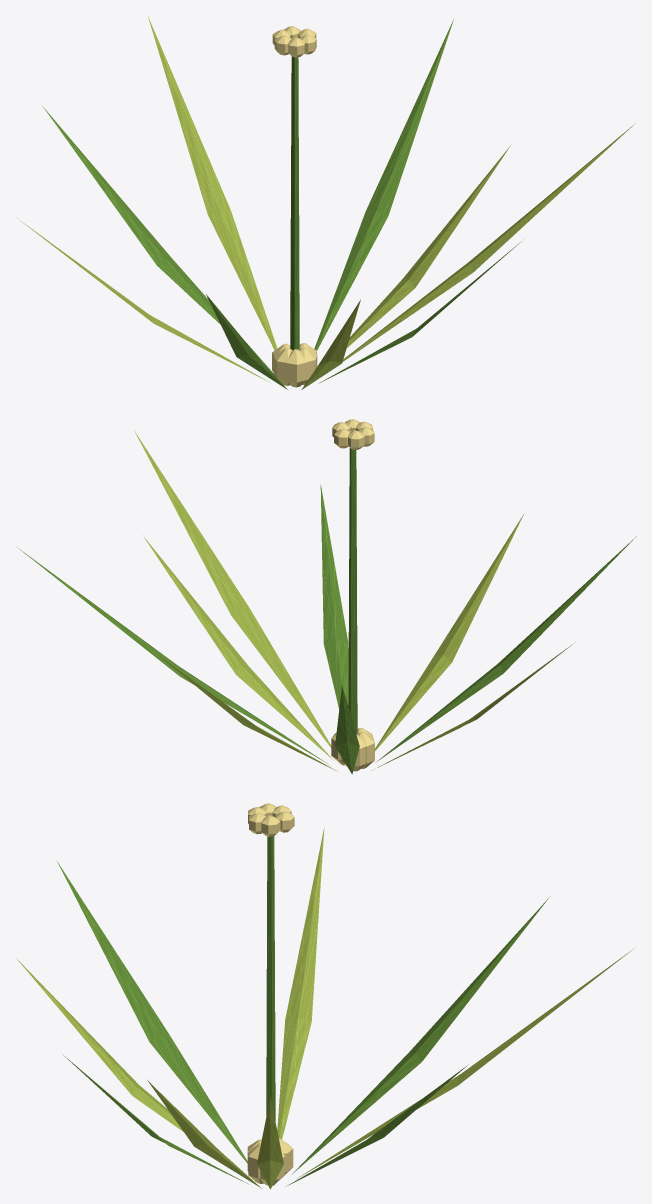
Rendered from crop-garlic-ready.glb.
3 views of the same model, one above another, from view 1: azimuth 30°, elevation 25°; view 2: azimuth 150°, elevation 25°; view 3: azimuth 270°, elevation 25° (orthographic). The views are drawn at different scales.
Visible parts, largest first — view 1: crop-garlic-ready; view 2: crop-garlic-ready; view 3: crop-garlic-ready.
Boxes of the visible parts, x1=… form: crop-garlic-ready: x1=16, y1=16, x2=635, y2=389; crop-garlic-ready: x1=17, y1=419, x2=636, y2=774; crop-garlic-ready: x1=16, y1=803, x2=633, y2=1189.
Size of the model in its own units: 1.57 by 0.967 by 1.48.
1 material, 1 textured.
